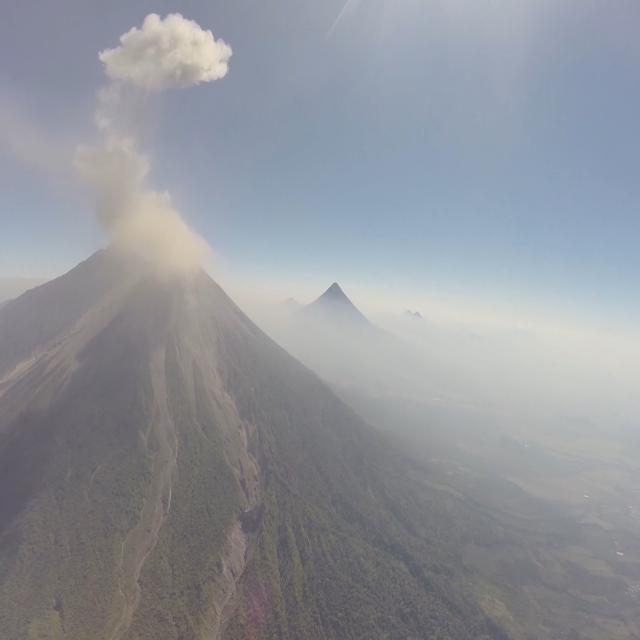Plume: (68, 132, 217, 282), (96, 8, 240, 101)
